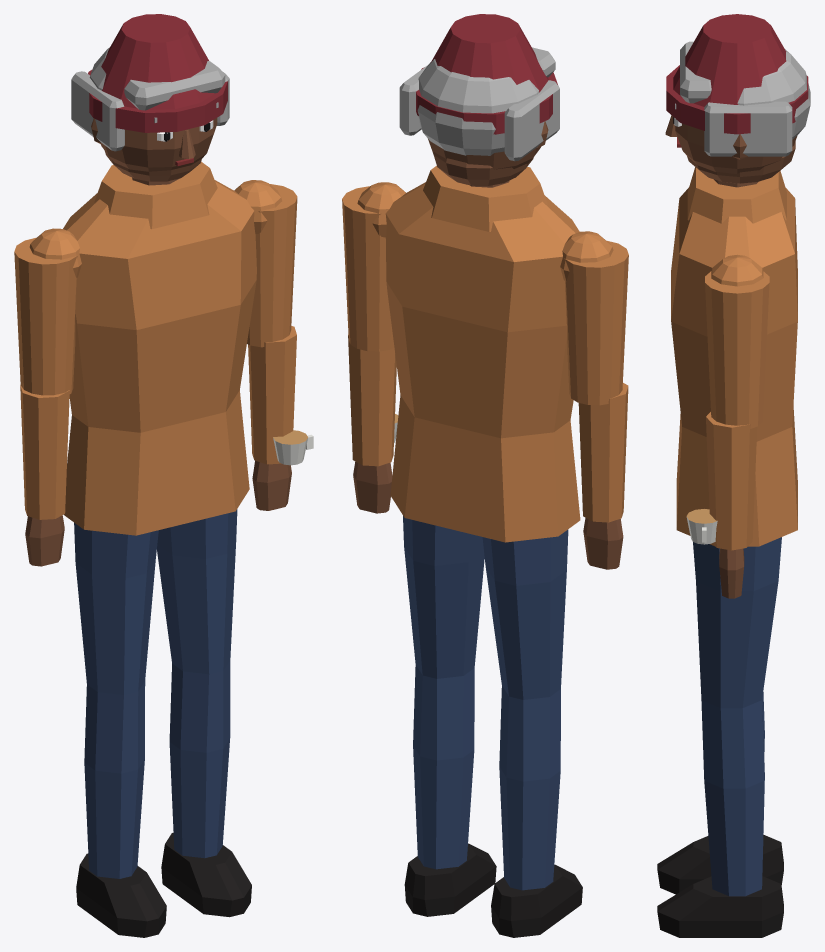
The model's file is customer_local.obj.
3 renders of one model, left to right at view 1: azimuth 30°, elevation 25°; view 2: azimuth 150°, elevation 25°; view 3: azimuth 270°, elevation 25°, orthographic.
Visible parts, largest first — view 1: customer_local; view 2: customer_local; view 3: customer_local.
Boxes of the visible parts, x1,y1,x2,y2 form: customer_local: (14,14,313,937); customer_local: (342,14,628,937); customer_local: (657,14,810,937).
Bounding box in the file's own units: 0.5862 × 1.75 × 0.2781.
